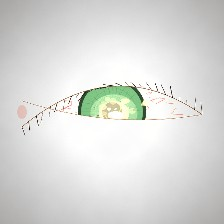corneal_ulcer: (89, 93, 139, 133)
